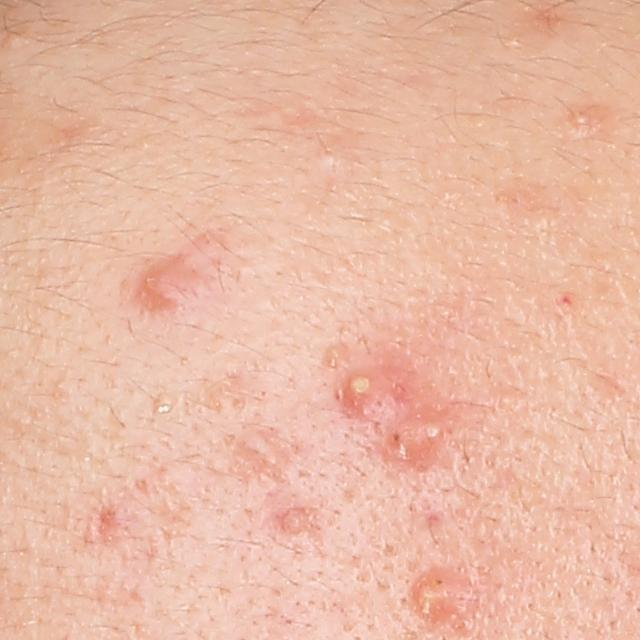comedo: (321, 340, 349, 367), (319, 144, 342, 168), (150, 397, 175, 418)
pustule: (331, 369, 399, 416), (412, 577, 456, 617)
